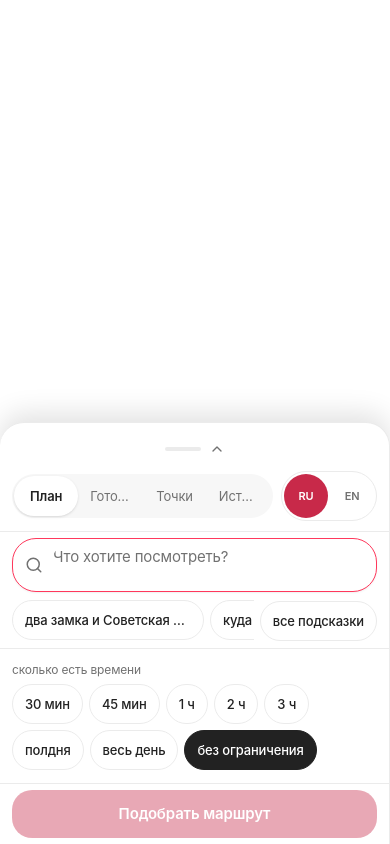
Test: Sidebar › switches the sheet between its two snap points
The image size is (390, 844).
Click the button named "развернуть панель" at (194, 449), box 12,427 -> 377,471
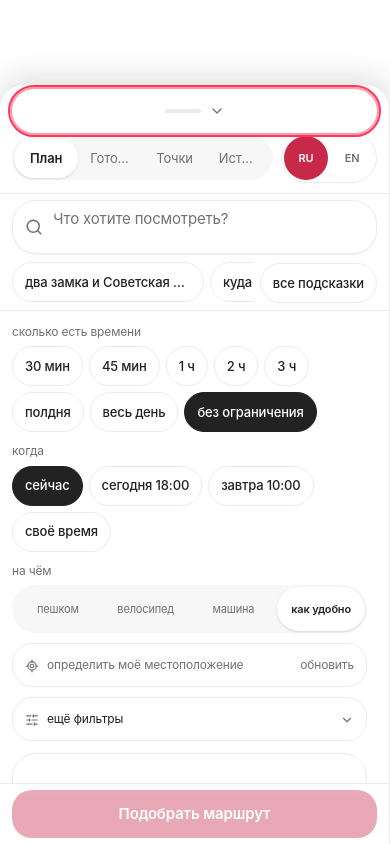
Result: the button named "свернуть панель" is expanded at 12,89 -> 377,133
